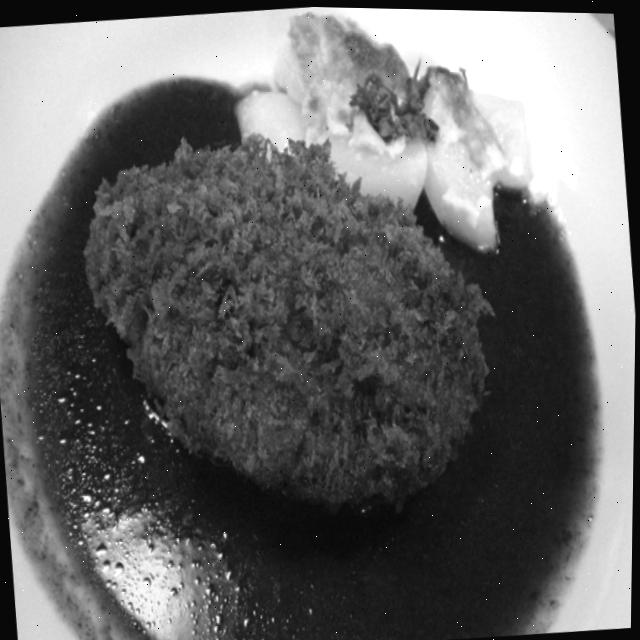炸货点心: (33, 17, 576, 583)
